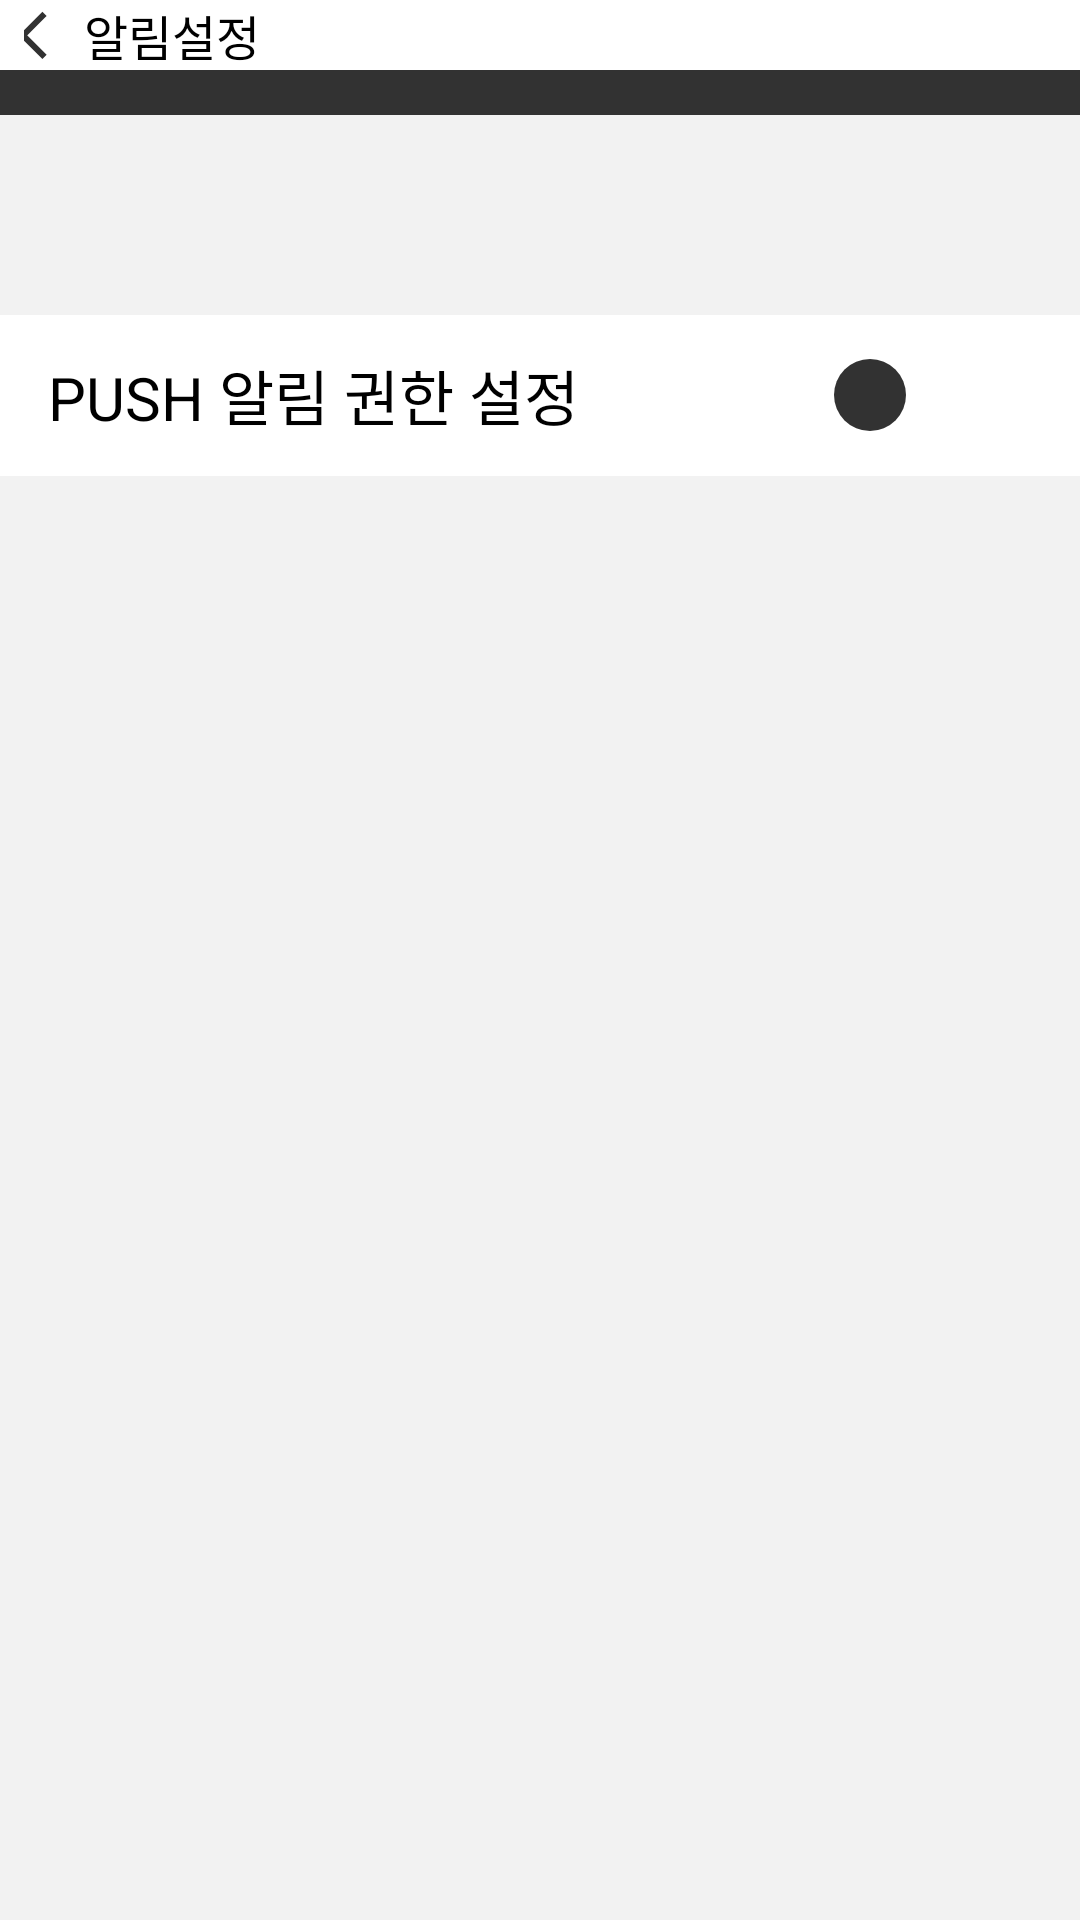

Where to tap for icons on this 1080 × 1920 app screen, as point (x, y):
back sharp: point (35, 35)
